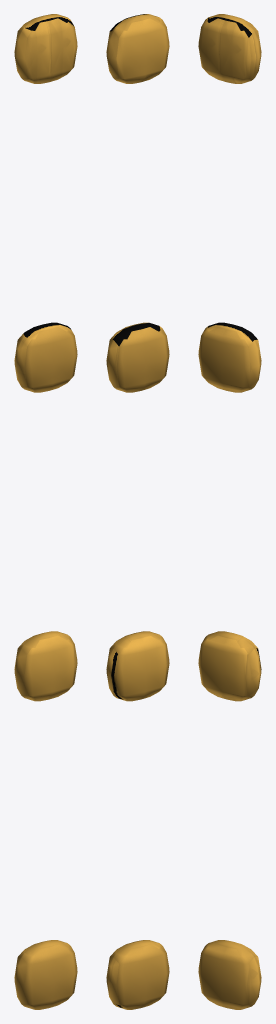
File: Mascarada_Chaleco_Oro.fbx
3 renders of one model, left to right at view 1: azimuth 30°, elevation 25°; view 2: azimuth 210°, elevation 25°; view 3: azimuth 330°, elevation 25°, orthographic.
Parts seen in each view (by area): view 1: Mascarada_Chaleco_Oro; view 2: Mascarada_Chaleco_Oro; view 3: Mascarada_Chaleco_Oro.
Part boxes in pixels (bbox=[...]): Mascarada_Chaleco_Oro: bbox=[14, 14, 77, 1009]; Mascarada_Chaleco_Oro: bbox=[106, 14, 169, 1009]; Mascarada_Chaleco_Oro: bbox=[198, 14, 261, 1009].
Bounding box in the file's own units: 0.0621 × 0.9699 × 0.0286.
